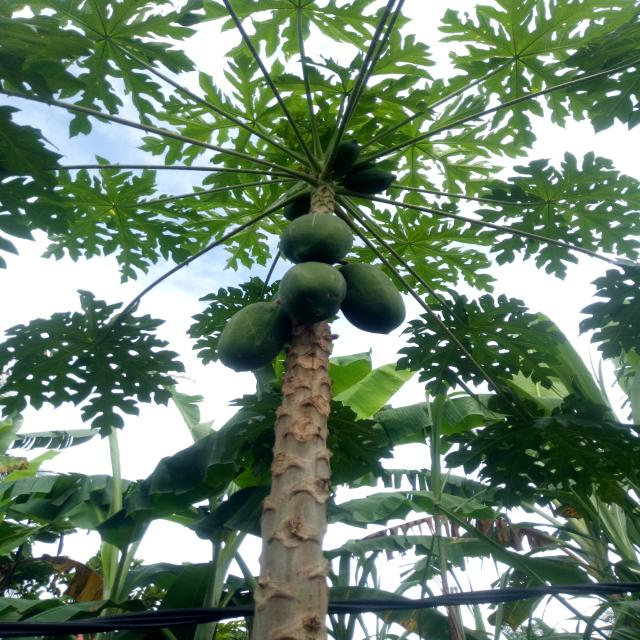Pepaya unrippen: (218, 307, 291, 374), (277, 212, 369, 260), (350, 260, 407, 334), (272, 261, 341, 319)
